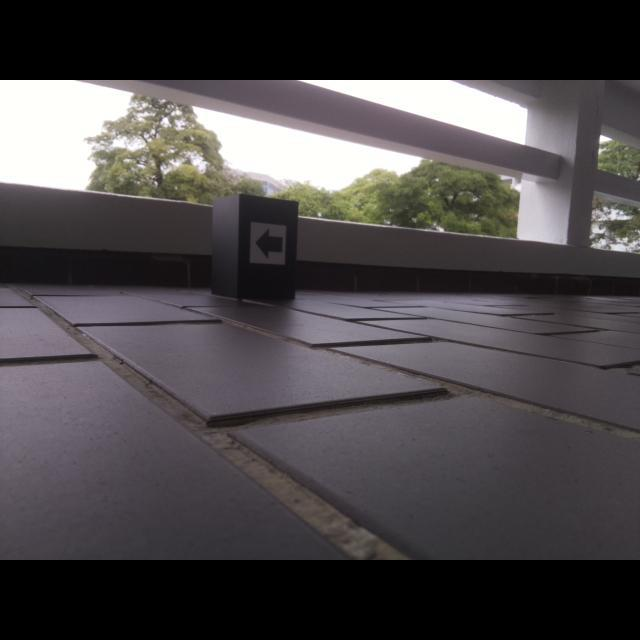LEFT: (255, 227, 283, 261)
